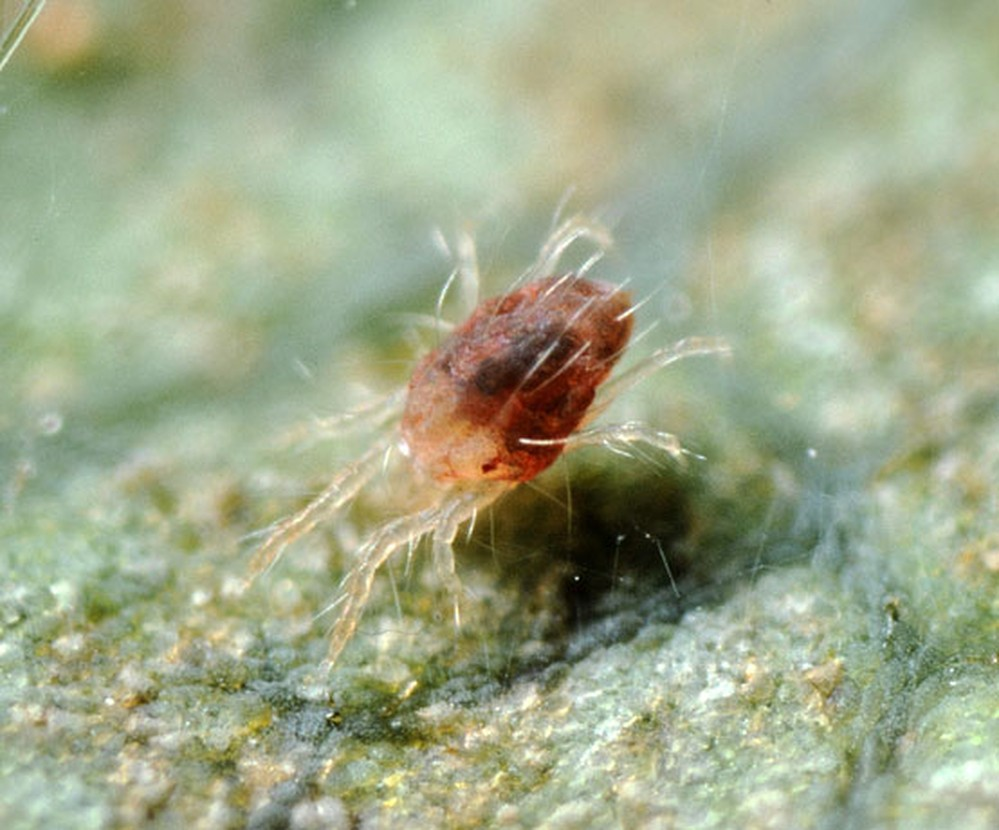Aracnido Rojo: (245, 206, 753, 667)
